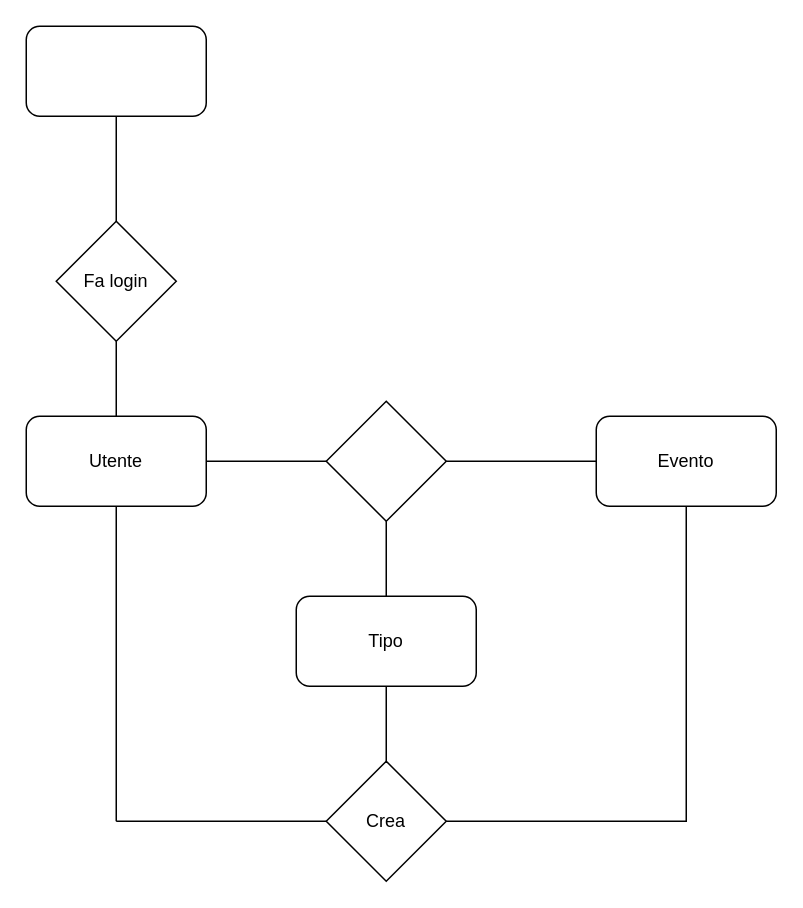
The diagram is 803 pixels wide and 908 high, and some of its shapes have lost their labels. The box of each missing label's shape, as (x1, y1, x2, y2) in pixels:
Dati: (25, 25, 206, 116)
Partecipa: (325, 400, 446, 521)
